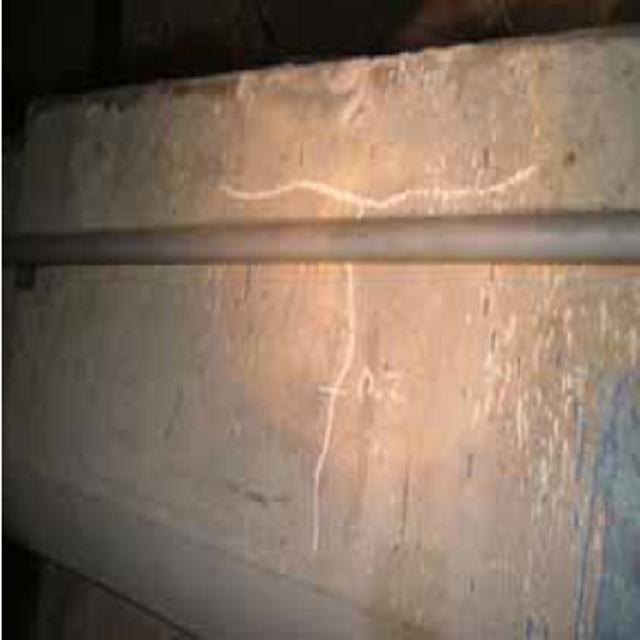crack: (297, 264, 362, 557), (217, 173, 576, 208)
